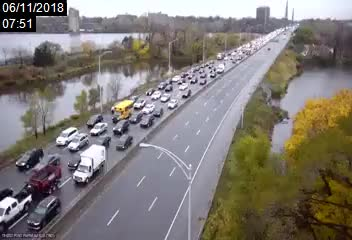congestion: (1, 113, 141, 237), (105, 83, 180, 128), (169, 67, 212, 94), (204, 54, 236, 71)
personal_car: (1, 183, 31, 231), (27, 195, 62, 231), (17, 148, 44, 168), (54, 125, 79, 146), (36, 153, 61, 173), (70, 133, 89, 151), (69, 149, 85, 170), (116, 133, 133, 150), (94, 132, 112, 147), (90, 122, 108, 135), (114, 119, 128, 134), (139, 114, 153, 127), (88, 115, 103, 126), (130, 110, 141, 123), (167, 99, 179, 110), (133, 97, 145, 108), (153, 105, 163, 117), (142, 103, 154, 113), (181, 89, 191, 98), (152, 90, 160, 100), (160, 94, 170, 102), (189, 76, 198, 84), (157, 82, 165, 90), (146, 87, 153, 96), (165, 84, 172, 92), (179, 83, 186, 89), (172, 75, 178, 80), (187, 74, 193, 79), (199, 80, 205, 85), (181, 72, 185, 77)
school_bus: (111, 99, 133, 126)
truck: (74, 146, 106, 185)
